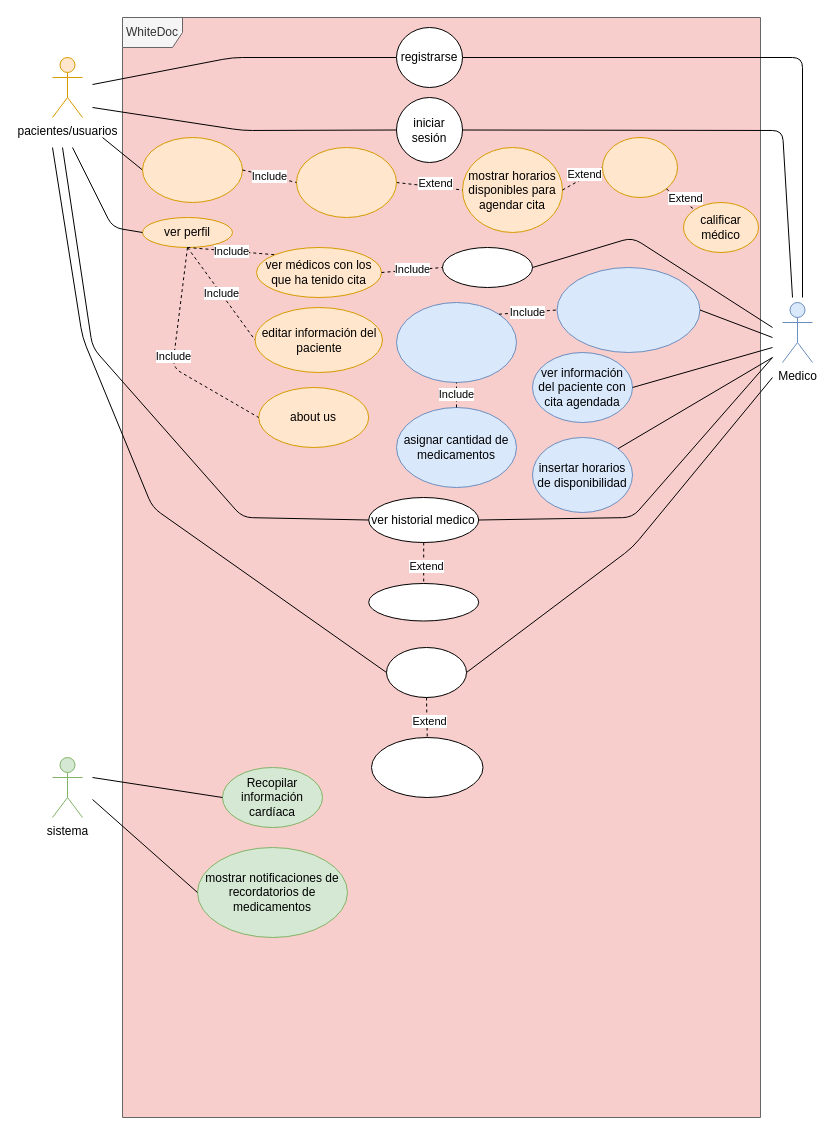
Some shapes in this 834 by 1135 pixel diagram are drawn without their labels. Each missing label, with the box of its shape:
agendar cita médica: (602, 136, 678, 198)
asignar horarios de medicamentos: (396, 302, 516, 382)
asignar medicamentos a los pacientes con los que ha tenido cita: (556, 266, 700, 352)
buscar especialistas cercanos: (296, 146, 396, 218)
buscar medico por especialidad: (142, 136, 242, 202)
cancelar cita: (370, 736, 483, 798)
iniciar chat: (442, 246, 532, 288)
ver citas agendadas: (386, 646, 466, 698)
ver historial cardiaco: (368, 582, 479, 621)
